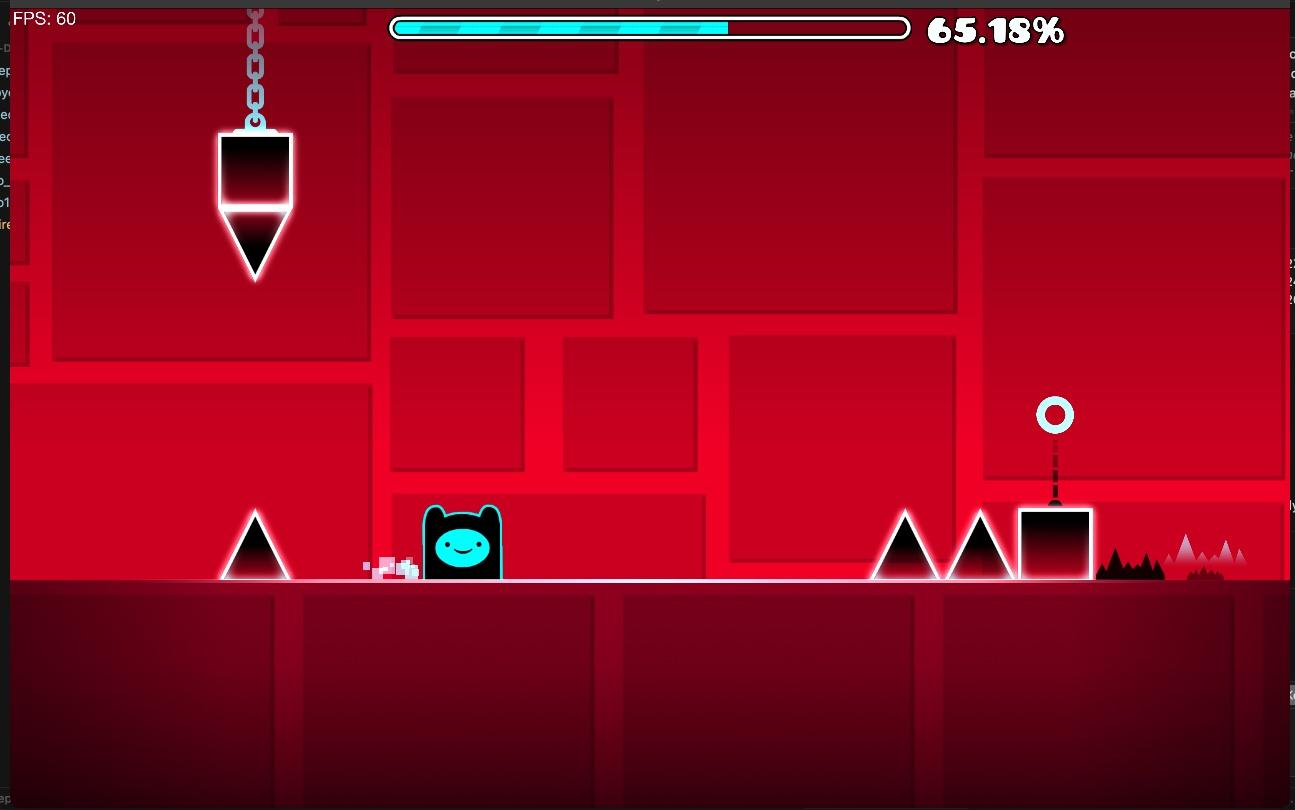block: (1021, 510, 1092, 581)
player: (422, 504, 502, 578)
spike: (218, 128, 292, 281), (870, 512, 1013, 579), (220, 510, 290, 579)
